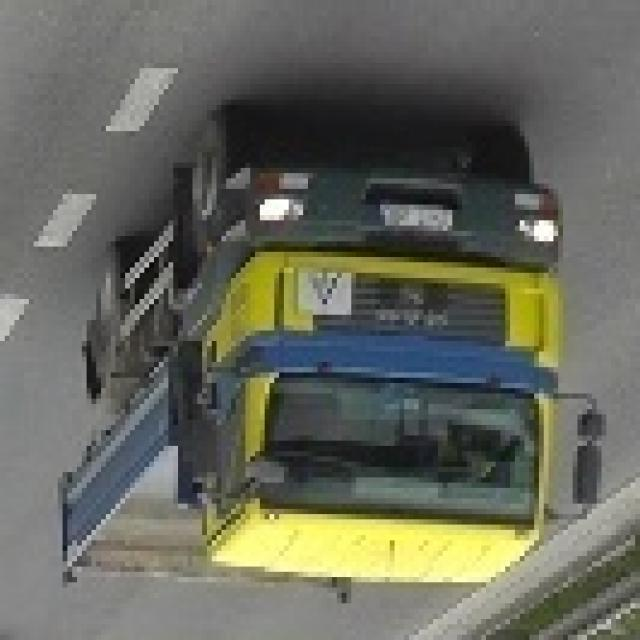truck: (63, 126, 602, 598)
